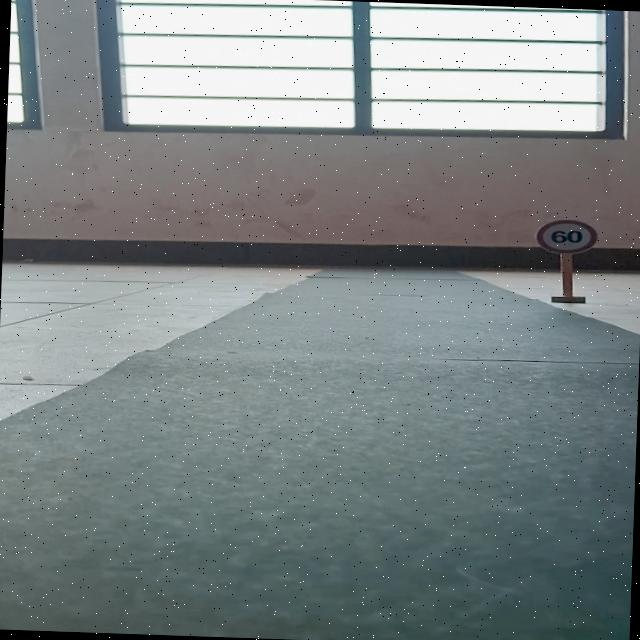Speed60: (533, 218, 601, 258)
